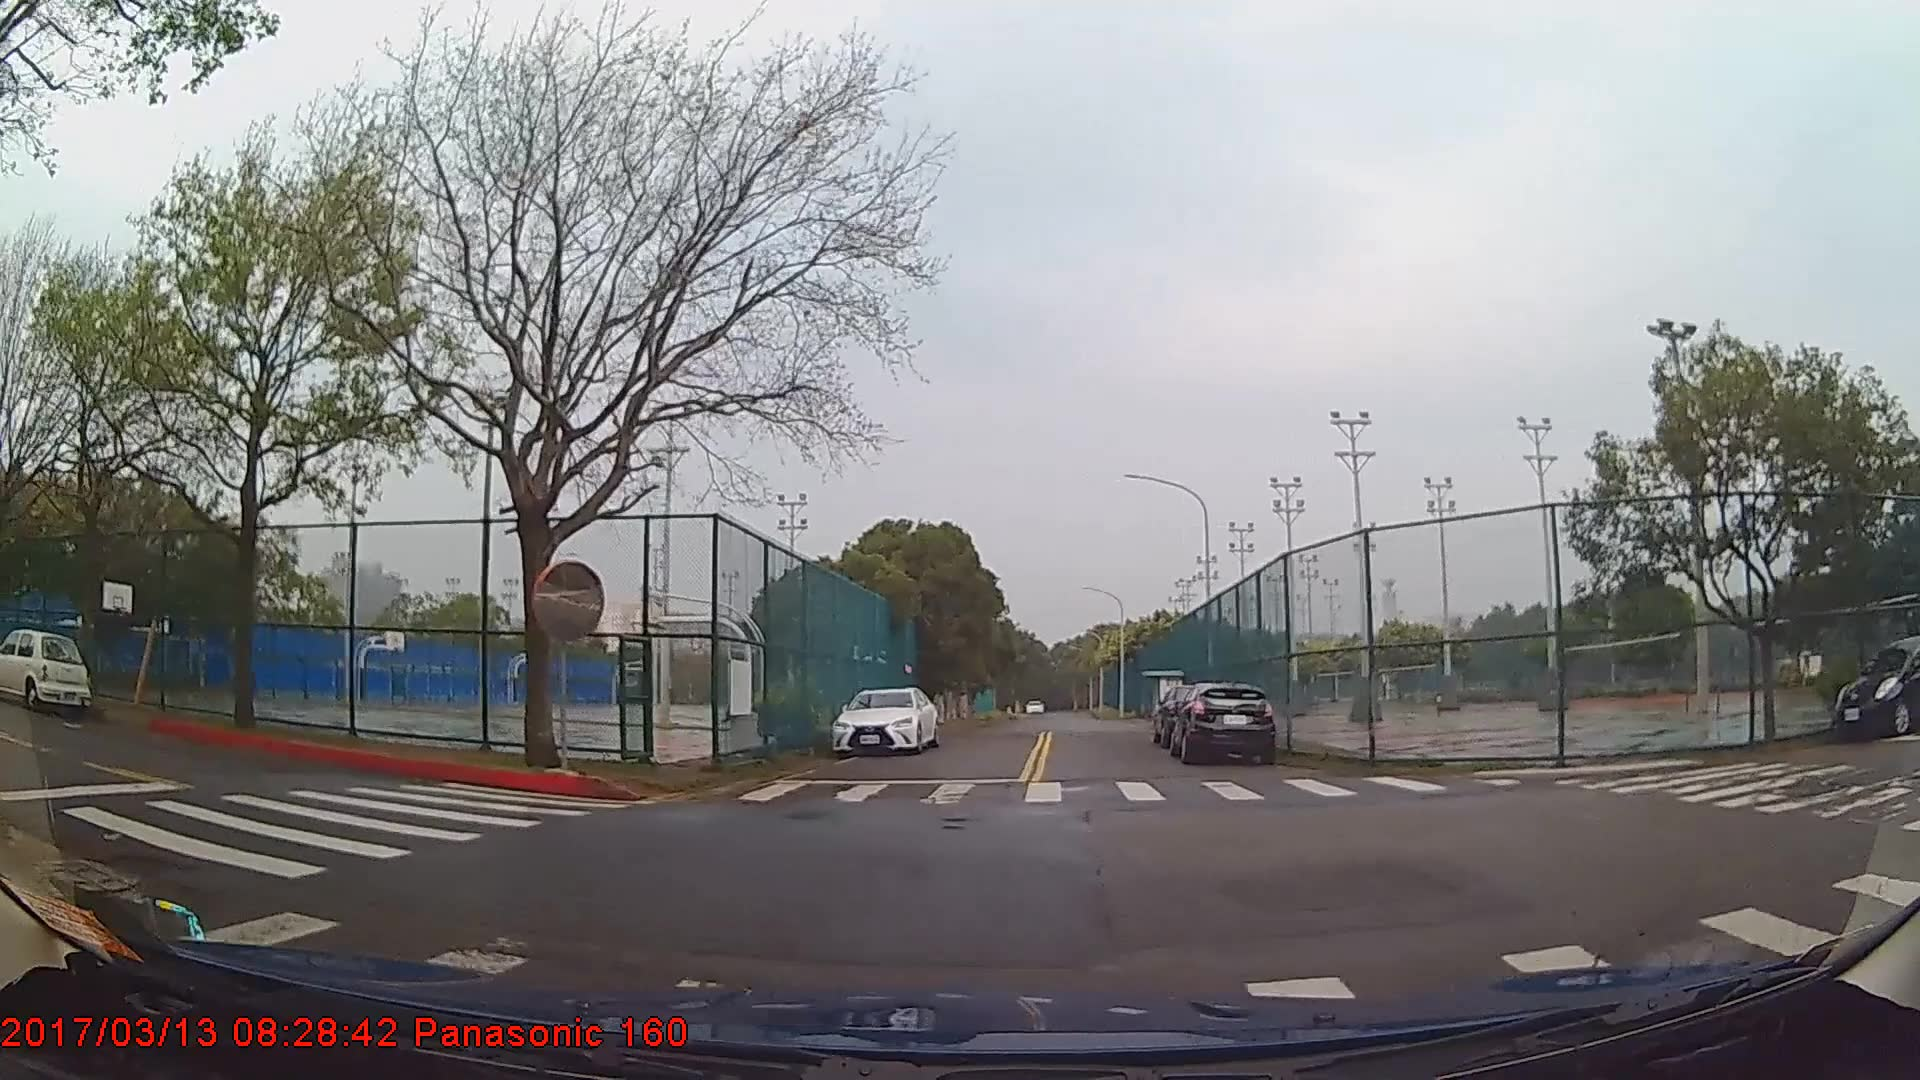vehicle: (1174, 682, 1279, 767), (1834, 633, 1920, 738), (0, 629, 91, 716), (833, 687, 942, 760)
